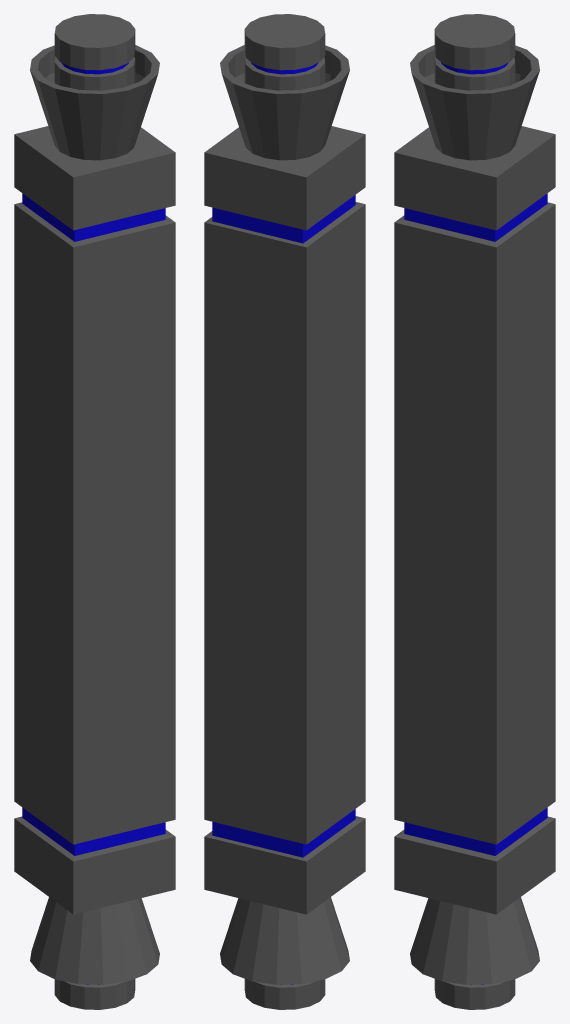
The model's file is player1.glb.
The picture shows the model from 3 angles, left to right: view 1: azimuth 30°, elevation 25°; view 2: azimuth 150°, elevation 25°; view 3: azimuth 330°, elevation 25°; orthographic projection.
Parts seen in each view (by area): view 1: Cube; view 2: Cube; view 3: Cube.
Part boxes in pixels (x1,y1,x2,y2): Cube: [14, 14, 175, 1009]; Cube: [204, 14, 365, 1009]; Cube: [394, 14, 555, 1009].
Bounding box in the file's own units: 2.04 × 16.53 × 2.04.
